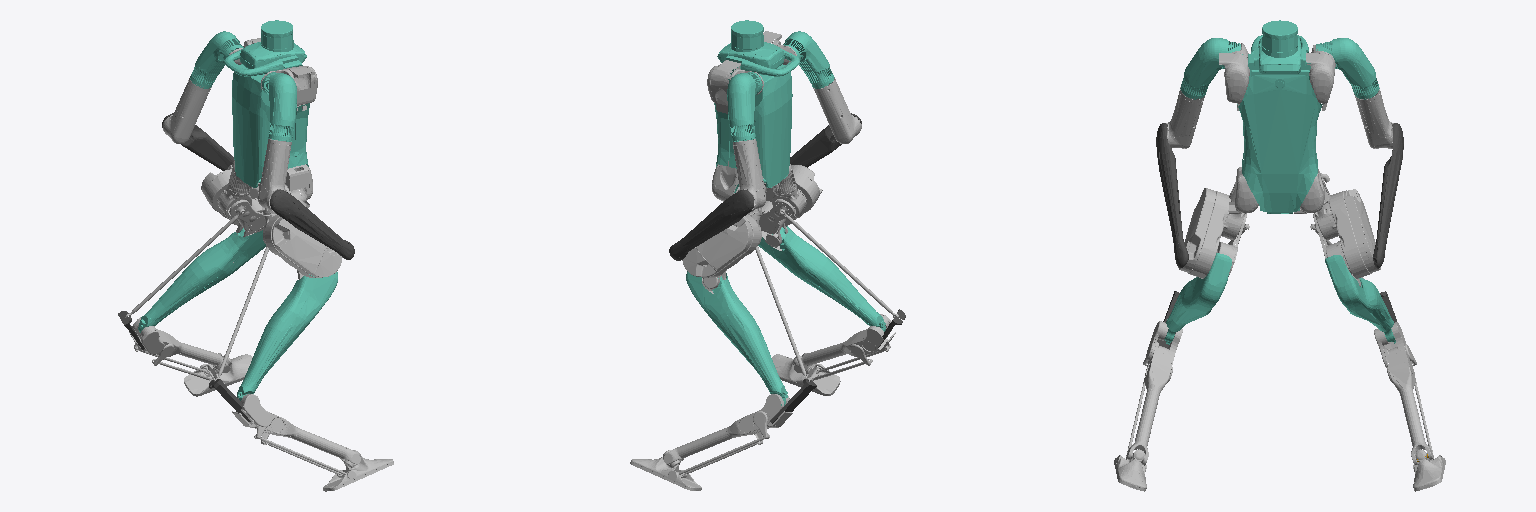
--- What the picture shows (computed from the rendered views, not written in the file) ---
Views: 3 orthographic renders of the robot side by side, from view 1: azimuth 30°, elevation 25°; view 2: azimuth 150°, elevation 25°; view 3: azimuth 270°, elevation 25°.
Model digit-v3-armfixed-floatingbase with 43 links and 42 joints (30 revolute, 12 fixed), rooted at torso, posed all joints at 0.
Visible links, largest first — view 1: torso, right_shin, left_shin, right_hip_pitch, right_tarsus, right_elbow, right_shoulder_pitch, left_shoulder_yaw, left_shoulder_pitch, left_tarsus, right_shoulder_yaw, left_toe_roll (+6 smaller); view 2: torso, left_shin, right_shin, left_hip_pitch, left_elbow, left_tarsus, left_shoulder_pitch, right_shoulder_yaw, right_tarsus, right_shoulder_pitch, left_shoulder_yaw, right_hip_pitch (+7 smaller); view 3: torso, left_hip_pitch, right_hip_pitch, left_tarsus, right_tarsus, right_shin, left_shin, right_elbow, left_shoulder_pitch, right_shoulder_pitch, left_elbow, left_shoulder_yaw (+4 smaller).
Link boxes in pixels (x1,y1,x2,y2): torso: [224, 20, 317, 207]; right_shin: [237, 272, 337, 400]; left_shin: [138, 228, 265, 332]; right_hip_pitch: [265, 215, 342, 277]; right_tarsus: [232, 394, 360, 463]; right_elbow: [270, 190, 354, 259]; right_shoulder_pitch: [262, 72, 296, 141]; left_shoulder_yaw: [163, 78, 211, 143]; left_shoulder_pitch: [190, 31, 243, 88]; left_tarsus: [129, 317, 230, 372]; right_shoulder_yaw: [258, 139, 291, 212]; left_toe_roll: [184, 354, 252, 396]; torso: [707, 20, 799, 201]; left_shin: [686, 271, 787, 405]; right_shin: [758, 226, 885, 331]; left_hip_pitch: [682, 214, 759, 277]; left_elbow: [669, 190, 753, 260]; left_tarsus: [663, 394, 792, 463]; left_shoulder_pitch: [727, 72, 762, 141]; right_shoulder_yaw: [813, 78, 861, 143]; right_tarsus: [794, 314, 895, 372]; right_shoulder_pitch: [783, 31, 834, 88]; left_shoulder_yaw: [733, 139, 765, 211]; right_hip_pitch: [760, 165, 822, 230]; torso: [1219, 20, 1335, 213]; left_hip_pitch: [1313, 189, 1380, 278]; right_hip_pitch: [1178, 188, 1246, 278]; left_tarsus: [1374, 322, 1433, 464]; right_tarsus: [1126, 321, 1182, 464]; right_shin: [1164, 253, 1231, 344]; left_shin: [1325, 255, 1395, 343]; right_elbow: [1156, 123, 1188, 267]; left_shoulder_pitch: [1316, 38, 1379, 99]; right_shoulder_pitch: [1180, 38, 1242, 99]; left_elbow: [1373, 123, 1403, 268]; left_shoulder_yaw: [1354, 87, 1393, 148].
Size in the robot's own frame: 0.5627 by 0.9376 by 1.4 metres.
Meshes: 20 distinct files referenced, 41 mesh visuals loaded (20 binary STL).

The robot description file, URDF, robot "digit-v3-armfixed-floatingbase":
<?xml version="1.0" encoding="utf-8"?>
<robot name="digit-v3-armfixed-floatingbase">
  <link name = "torso">
    <inertial>
      <origin rpy="0 0 0" xyz="0.001636612541 0.0002001180789 0.2593064529"/>
      <mass value="15.028392"/>
      <inertia ixx="0.3759052548" ixy="-8.776732849e-05" ixz="0.008498611229" iyy="0.3441935" iyz="6.621611757e-05" izz="0.09873232746"/>
    </inertial>
    <visual>
      <origin rpy="0 0 0" xyz="0 0 0"/>
      <geometry>
        <mesh filename="meshes/torso-v3/torso.stl"/>
      </geometry>
      <material name="scarlet">
        <color rgba="0.427 0.784 0.714 1"/>
      </material>
    </visual>
    <visual>
      <origin rpy="0 -1.5707963267948966192313216916398 0" xyz="-0.001 0.091 0"/>
      <geometry>
        <mesh filename="meshes/leg-v3/hip-roll-housing.stl"/>
      </geometry>
      <material name="light_grey">
        <color rgba="0.75 0.75 0.75 1"/>
      </material>
    </visual>
    <visual>
      <origin rpy="-0 -1.5707963267948966192313216916398 0" xyz="-0.001 0.12 0.4"/>
      <geometry>
        <mesh filename="meshes/arm-v3/link-0.stl"/>
      </geometry>
      <material name="light_grey">
        <color rgba="0.75 0.75 0.75 1"/>
      </material>
    </visual>
    <visual>
      <origin rpy="0 -1.5707963267948966192313216916398 0" xyz="-0.001 -0.091 0"/>
      <geometry>
        <mesh filename="meshes/leg-v3/hip-roll-housing.stl"/>
      </geometry>
      <material name="light_grey">
        <color rgba="0.75 0.75 0.75 1"/>
      </material>
    </visual>
    <visual>
      <origin rpy="0 -1.5707963267948966192313216916398 0" xyz="-0.001 -0.12 0.4"/>
      <geometry>
        <mesh filename="meshes/arm-v3/link-0.stl"/>
      </geometry>
      <material name="light_grey">
        <color rgba="0.75 0.75 0.75 1"/>
      </material>
    </visual>
    <collision>
      <origin rpy="0 0 0" xyz="0 0 0"/>
      <geometry>
        <mesh filename="meshes/torso-v3/torso.stl"/>
      </geometry>
    </collision>
    <collision>
      <origin rpy="0 -1.5707963267948966192313216916398 0" xyz="-0.001 0.091 0"/>
      <geometry>
        <mesh filename="meshes/leg-v3/hip-roll-housing.stl"/>
      </geometry>
    </collision>
    <collision>
      <origin rpy="-0.1745   -1.5707963267948966192313216916398         0" xyz="-0.001 0.12 0.4"/>
      <geometry>
        <mesh filename="meshes/arm-v3/link-0.stl"/>
      </geometry>
    </collision>
    <collision>
      <origin rpy="0 -1.5707963267948966192313216916398 0" xyz="-0.001 -0.091 0"/>
      <geometry>
        <mesh filename="meshes/leg-v3/hip-roll-housing.stl"/>
      </geometry>
    </collision>
    <collision>
      <origin rpy="0.1745   -1.5707963267948966192313216916398         0" xyz="-0.001 -0.12 0.4"/>
      <geometry>
        <mesh filename="meshes/arm-v3/link-0.stl"/>
      </geometry>
    </collision>
  </link>

  <!-- left leg -->
  <link name="left_hip_roll">
    <inertial>
      <origin rpy="0 0 0" xyz="-0.001967 0.000244 0.031435"/>
      <mass value="0.915088"/>
      <inertia ixx="0.001017" ixy="-3e-06" ixz="1.3e-05" iyy="0.001148" iyz="-4e-06" izz="0.000766"/>
    </inertial>
    <visual>
      <origin rpy="0 0 0" xyz="0 0 0"/>
      <geometry>
        <mesh filename="meshes/leg-v3/hip-yaw-housing.stl"/>
      </geometry>
      <material name="light_grey">
        <color rgba="0.75 0.75 0.75 1"/>
      </material>
    </visual>
    <collision>
      <origin rpy="0 0 0" xyz="0 0 0"/>
      <geometry>
        <mesh filename="meshes/leg-v3/hip-yaw-housing.stl"/>
      </geometry>
    </collision>
  </link>
  <link name="left_hip_yaw">
    <inertial>
      <origin rpy="0 0 0" xyz="1e-05 -0.001945 0.042033"/>
      <mass value="0.818753"/>
      <inertia ixx="0.001627" ixy="-1e-06" ixz="2e-06" iyy="0.001929" iyz="5.3e-05" izz="0.00077"/>
    </inertial>
    <visual>
      <origin rpy="0 0 0" xyz="0 0 0"/>
      <geometry>
        <mesh filename="meshes/leg-v3/hip-pitch-housing.stl"/>
      </geometry>
      <material name="light_grey">
        <color rgba="0.75 0.75 0.75 1"/>
      </material>
    </visual>
    <collision>
      <origin rpy="0 0 0" xyz="0 0 0"/>
      <geometry>
        <mesh filename="meshes/leg-v3/hip-pitch-housing.stl"/>
      </geometry>
    </collision>
  </link>
  <link name="left_hip_pitch">
    <inertial>
      <origin rpy="0 0 0" xyz="0.060537 0.000521 -0.038857"/>
      <mass value="6.244279"/>
      <inertia ixx="0.011533" ixy="-0.000171" ixz="0.000148" iyy="0.033345" iyz="0.000178" izz="0.033958"/>
    </inertial>
    <visual>
      <origin rpy="0 0 0" xyz="0 0 0"/>
      <geometry>
        <mesh filename="meshes/leg-v3/hip-pitch.stl"/>
      </geometry>
      <material name="scarlet">
        <color rgba="0.75 0.75 0.75 1"/>
      </material>
    </visual>
    <collision>
      <origin rpy="0 0 0" xyz="0 0 0"/>
      <geometry>
        <mesh filename="meshes/leg-v3/hip-pitch.stl"/>
      </geometry>
    </collision>
  </link>

  <!-- left knee close loop -->
  <link name="left_achilles_rod">
    <inertial>
      <origin rpy="0 0 0" xyz="0 0 0"/>
      <mass value="0."/>
      <inertia ixx="0" ixy="0" ixz="0" iyy="0" iyz="0" izz="0"/>
    </inertial>
    <visual>
      <origin rpy="0 0 0" xyz="0 0 0"/>
      <geometry>
        <mesh filename="meshes/leg-v3/achilles-rod.stl"/>
      </geometry>
      <material name="light_grey">
        <color rgba="0.75 0.75 0.75 1"/>
      </material>
    </visual>
    <collision>
      <origin rpy="0 0 0" xyz="0 0 0"/>
      <geometry>
        <mesh filename="meshes/leg-v3/achilles-rod.stl"/>
      </geometry>
    </collision>
  </link>
  <link name="left_ach2">
    <inertial>
      <origin rpy="0 0 0" xyz="0.2506 0 0"/>
      <mass value="0.178148"/>
      <inertia ixx="3e-06" ixy="0" ixz="0" iyy="0.004501" iyz="0" izz="0.004501"/>
    </inertial>
    <visual>
      <origin rpy="0 0 0" xyz="0 0 0"/>
      <geometry>
        <sphere radius = "0.0" />
      </geometry>
    </visual>
    <collision>
      <origin rpy="0 0 0" xyz="0 0 0"/>
      <geometry>
        <sphere radius = "0.0" />
      </geometry>
    </collision>
  </link>

  <link name="left_knee">
    <inertial>
      <origin rpy="0 0 0" xyz="0.045641 0.042154 0.001657"/>
      <mass value="1.227077"/>
      <inertia ixx="0.002643" ixy="-0.001832" ixz="6.6e-05" iyy="0.005098" iyz="4.5e-05" izz="0.007019"/>
    </inertial>
    <visual>
      <origin rpy="0 0 0" xyz="0 0 0"/>
      <geometry>
        <mesh filename="meshes/leg-v3/knee.stl"/>
      </geometry>
      <material name="light_grey">
        <color rgba="0.75 0.75 0.75 1"/>
      </material>
    </visual>
    <collision>
      <origin rpy="0 0 0" xyz="0 0 0"/>
      <geometry>
        <mesh filename="meshes/leg-v3/knee.stl"/>
      </geometry>
    </collision>
  </link>
  <link name="left_shin">
    <inertial>
      <origin rpy="0 0 0" xyz="0.174265 0.010265 0.00107"/>
      <mass value="0.895793"/>
      <inertia ixx="0.001128" ixy="0.001098" ixz="0.000196" iyy="0.022492" iyz="-3e-06" izz="0.022793"/>
    </inertial>
    <visual>
      <origin rpy="0 0 0" xyz="0 0 0"/>
      <geometry>
        <mesh filename="meshes/leg-v3/shin.stl"/>
      </geometry>
      <material name="scarlet">
        <color rgba="0.427 0.784 0.714 1"/>
      </material>
    </visual>
    <collision>
      <origin rpy="0 0 0" xyz="0 0 0"/>
      <geometry>
        <mesh filename="meshes/leg-v3/shin.stl"/>
      </geometry>
    </collision>
  </link>
  <link name="left_tarsus">
    <inertial>
      <origin rpy="0 0 0" xyz="0.100777 -0.029183 0.000678"/>
      <mass value="1.322865"/>
      <inertia ixx="0.000932" ixy="0.00061" ixz="0.000102" iyy="0.016409" iyz="9e-06" izz="0.016501"/>
    </inertial>
    <visual>
      <origin rpy="0 0 0" xyz="0 0 0"/>
      <geometry>
        <mesh filename="meshes/leg-v3/tarsus.stl"/>
      </geometry>
      <material name="light_grey">
        <color rgba="0.75 0.75 0.75 1"/>
      </material>
    </visual>
    <collision>
      <origin rpy="0 0 0" xyz="0 0 0"/>
      <geometry>
        <mesh filename="meshes/leg-v3/tarsus.stl"/>
      </geometry>
    </collision>
  </link>
  <link name="left_heel_spring">
    <inertial>
      <origin rpy="0 0 0" xyz="0.049086 0.004739 -4.5e-05"/>
      <mass value="0.230018"/>
      <inertia ixx="5.5e-05" ixy="1.5e-05" ixz="1e-06" iyy="0.00074" iyz="0" izz="0.000701"/>
    </inertial>
    <visual>
      <origin rpy="0 0 0" xyz="0 0 0"/>
      <geometry>
        <mesh filename="meshes/leg-v3/heel-spring.stl"/>
      </geometry>
      <material name="grey">
        <color rgba="0.35 0.35 0.35 1"/>
      </material>
    </visual>
    <collision>
      <origin rpy="0 0 0" xyz="0 0 0"/>
      <geometry>
        <mesh filename="meshes/leg-v3/heel-spring.stl"/>
      </geometry>
    </collision>
  </link>

  <!-- left toe close loop-->
  <link name="left_toe_A">
    <inertial>
      <origin rpy="0 0 0" xyz="0.005161 1e-06 -0.002248"/>
      <mass value="0.139557"/>
      <inertia ixx="2.9e-05" ixy="0" ixz="-4e-06" iyy="5.8e-05" iyz="0" izz="7.4e-05"/>
    </inertial>
    <visual>
      <origin rpy="0 0 0" xyz="0 0 0"/>
      <geometry>
        <mesh filename="meshes/leg-v3/toe-output.stl"/>
      </geometry>
      <material name="light_grey">
        <color rgba="0.75 0.75 0.75 1"/>
      </material>
    </visual>
    <collision>
      <origin rpy="0 0 0" xyz="0 0 0"/>
      <geometry>
        <mesh filename="meshes/leg-v3/toe-output.stl"/>
      </geometry>
    </collision>
  </link>
  <link name="left_toe_A_rod">
    <inertial>
      <origin rpy="0 0 0" xyz="0 0 0"/>
      <mass value="0."/>
      <inertia ixx="0" ixy="0" ixz="0" iyy="0" iyz="0" izz="0"/>
    </inertial>
    <visual>
      <origin rpy="0 0 0" xyz="0 0 0"/>
      <geometry>
        <mesh filename="meshes/leg-v3/toe-a-rod.stl"/>
      </geometry>
      <material name="light_grey">
        <color rgba="0.75 0.75 0.75 1"/>
      </material>
    </visual>
    <collision>
      <origin rpy="0 0 0" xyz="0 0 0"/>
      <geometry>
        <mesh filename="meshes/leg-v3/toe-a-rod.stl"/>
      </geometry>
    </collision>
  </link>
  <link name="left_A2">
    <inertial>
      <origin rpy="0 0 0" xyz="0.171071 0 0"/>
      <mass value="0.090983"/>
      <inertia ixx="1e-06" ixy="0" ixz="0" iyy="0.001182" iyz="0" izz="0.001182"/>
    </inertial>
    <visual>
      <origin rpy="0 0 0" xyz="0 0 0"/>
      <geometry>
        <sphere radius = "0.0" />
      </geometry>
    </visual>
    <collision>
      <origin rpy="0 0 0" xyz="0 0 0"/>
      <geometry>
        <sphere radius = "0.0" />
      </geometry>
    </collision>
  </link>
  <link name="left_toe_B">
    <inertial>
      <origin rpy="0 0 0" xyz="0.005161 1e-06 -0.002248"/>
      <mass value="0.139557"/>
      <inertia ixx="2.9e-05" ixy="0" ixz="-4e-06" iyy="5.8e-05" iyz="0" izz="7.4e-05"/>
    </inertial>
    <visual>
      <origin rpy="0 0 0" xyz="0 0 0"/>
      <geometry>
        <mesh filename="meshes/leg-v3/toe-output.stl"/>
      </geometry>
      <material name="light_grey">
        <color rgba="0.75 0.75 0.75 1"/>
      </material>
    </visual>
    <collision>
      <origin rpy="0 0 0" xyz="0 0 0"/>
      <geometry>
        <mesh filename="meshes/leg-v3/toe-output.stl"/>
      </geometry>
    </collision>
  </link>
  <link name="left_toe_B_rod">
    <inertial>
      <origin rpy="0 0 0" xyz="0 0 0"/>
      <mass value="0."/>
      <inertia ixx="0" ixy="0" ixz="0" iyy="0" iyz="0" izz="0"/>
    </inertial>
    <visual>
      <origin rpy="0 0 0" xyz="0 0 0"/>
      <geometry>
        <mesh filename="meshes/leg-v3/toe-b-rod.stl"/>
      </geometry>
      <material name="light_grey">
        <color rgba="0.75 0.75 0.75 1"/>
      </material>
    </visual>
    <collision>
      <origin rpy="0 0 0" xyz="0 0 0"/>
      <geometry>
        <mesh filename="meshes/leg-v3/toe-b-rod.stl"/>
      </geometry>
    </collision>
  </link>
  <link name="left_B2">
    <inertial>
      <origin rpy="0 0 0" xyz="0.142991 0 0"/>
      <mass value="0.079507"/>
      <inertia ixx="1e-06" ixy="0" ixz="0" iyy="0.000768" iyz="0" izz="0.000768"/>
    </inertial>
    <visual>
      <origin rpy="0 0 0" xyz="0 0 0"/>
      <geometry>
        <sphere radius = "0.0" />
      </geometry>
    </visual>
    <collision>
      <origin rpy="0 0 0" xyz="0 0 0"/>
      <geometry>
        <sphere radius = "0.0" />
      </geometry>
    </collision>
  </link>

  <link name="left_toe_pitch">
    <inertial>
      <origin rpy="0 0 0" xyz="-0.000141 2e-06 3e-06"/>
      <mass value="0.043881"/>
      <inertia ixx="5e-06" ixy="0" ixz="0" iyy="8e-06" iyz="0" izz="4e-06"/>
    </inertial>
    <visual>
      <origin rpy="0 0 0" xyz="0 0 0"/>
      <geometry>
        <mesh filename="meshes/leg-v3/toe-pitch.stl"/>
      </geometry>
    </visual>
    <collision>
      <origin rpy="0 0 0" xyz="0 0 0"/>
      <geometry>
        <mesh filename="meshes/leg-v3/toe-pitch.stl"/>
      </geometry>
      <material name="light_grey">
        <color rgba="0.75 0.75 0.75 1"/>
      </material>
    </collision>
  </link>
  <link name="left_toe_roll">
    <inertial>
      <origin rpy="0 0 0" xyz="9e-06 -0.028084 -0.023204"/>
      <mass value="0.531283"/>
      <inertia ixx="0.00187" ixy="0" ixz="0" iyy="0.001616" iyz="0.000566" izz="0.000843"/>
    </inertial>
    <visual>
      <origin rpy="0 0 0" xyz="0 0 0"/>
      <geometry>
        <mesh filename="meshes/leg-v3/toe-roll.stl"/>
      </geometry>
      <material name="light_grey">
        <color rgba="0.75 0.75 0.75 1"/>
      </material>
    </visual>
    <collision>
      <origin rpy="0 0 0" xyz="0 0 0"/>
      <geometry>
        <mesh filename="meshes/leg-v3/toe-roll.stl"/>
      </geometry>
    </collision>
  </link>

  <!-- left arm -->
  <link name="left_shoulder_roll">
    <inertial>
      <origin rpy="0 0 0" xyz="-0.000819 -0.003158 0.023405"/>
      <mass value="0.535396"/>
      <inertia ixx="0.000704" ixy="1.4e-05" ixz="1.2e-05" iyy="0.00075" iyz="3.5e-05" izz="0.000298"/>
    </inertial>
    <visual>
      <origin rpy="0         0   -0.2793" xyz="0 0 0"/>
      <geometry>
        <mesh filename="meshes/arm-v3/link-1.stl"/>
      </geometry>
      <material name="light_grey">
        <color rgba="0.75 0.75 0.75 1"/>
      </material>
    </visual>
    <collision>
      <origin rpy="0         0   -0.2793" xyz="0 0 0"/>
      <geometry>
        <mesh filename="meshes/arm-v3/link-1.stl"/>
      </geometry>
    </collision>
  </link>
  <link name="left_shoulder_pitch">
    <inertial>
      <origin rpy="0 0 0" xyz="-4.2e-05 -0.061882 -0.073788"/>
      <mass value="1.440357"/>
      <inertia ixx="0.006761" ixy="-6e-06" ixz="-3e-06" iyy="0.002087" iyz="-0.002046" izz="0.005778"/>
    </inertial>
    <visual>
      <origin rpy="0 0 0" xyz="0 0 0"/>
      <geometry>
        <mesh filename="meshes/arm-v3/link-2.stl"/>
      </geometry>
      <material name="scarlet">
        <color rgba="0.427 0.784 0.714 1"/>
      </material>
    </visual>
    <collision>
      <origin rpy="0 0 0" xyz="0 0 0"/>
      <geometry>
        <mesh filename="meshes/arm-v3/link-2.stl"/>
      </geometry>
    </collision>
  </link>
  <link name="left_shoulder_yaw">
    <inertial>
      <origin rpy="0 0 0" xyz="-3e-05 0.001937 0.11407"/>
      <mass value="1.065387"/>
      <inertia ixx="0.006967" ixy="-1e-06" ixz="-1e-06" iyy="0.007003" iyz="-1.5e-05" izz="0.000673"/>
    </inertial>
    <visual>
      <origin rpy="0 0 0" xyz="0 0 0"/>
      <geometry>
        <mesh filename="meshes/arm-v3/link-3.stl"/>
      </geometry>
      <material name="light_grey">
        <color rgba="0.75 0.75 0.75 1"/>
      </material>
    </visual>
    <collision>
      <origin rpy="0 0 0" xyz="0 0 0"/>
      <geometry>
        <mesh filename="meshes/arm-v3/link-3.stl"/>
      </geometry>
    </collision>
  </link>
  <link name="left_elbow">
    <inertial>
      <origin rpy="0 0 0" xyz="0.107996 0.000521 -0.017765"/>
      <mass value="0.550582"/>
      <inertia ixx="0.000476" ixy="-2.9e-05" ixz="0.001403" iyy="0.009564" iyz="9e-06" izz="0.009437"/>
    </inertial>
    <visual>
      <origin rpy="0 0 0" xyz="0 0 0"/>
      <geometry>
        <mesh filename="meshes/arm-v3/link-4.stl"/>
      </geometry>
      <material name="grey">
        <color rgba="0.35 0.35 0.35 1"/>
      </material>
    </visual>
    <collision>
      <origin rpy="0 0 0" xyz="0 0 0"/>
      <geometry>
        <mesh filename="meshes/arm-v3/link-4.stl"/>
      </geometry>
    </collision>
  </link>
  
  <!-- right leg -->
  <link name="right_hip_roll">
    <inertial>
      <origin rpy="0 0 0" xyz="-0.001967 -0.000244 0.031435"/>
      <mass value="0.915088"/>
      <inertia ixx="0.001017" ixy="3e-06" ixz="1.3e-05" iyy="0.001148" iyz="4e-06" izz="0.000766"/>
    </inertial>
    <visual>
      <origin rpy="0 0 0" xyz="0 0 0"/>
      <geometry>
        <mesh filename="meshes/leg-v3/hip-yaw-housing.stl" scale="1 1 1"/>
      </geometry>
      <material name="light_grey">
        <color rgba="0.75 0.75 0.75 1"/>
      </material>
    </visual>
    <collision>
      <origin rpy="0 0 0" xyz="0 0 0"/>
      <geometry>
        <mesh filename="meshes/leg-v3/hip-yaw-housing.stl" scale="1 1 1"/>
      </geometry>
    </collision>
  </link>
  <link name="right_hip_yaw">
    <inertial>
      <origin rpy="0 0 0" xyz="1e-05 0.001945 0.042033"/>
      <mass value="0.818753"/>
      <inertia ixx="0.001627" ixy="1e-06" ixz="2e-06" iyy="0.001929" iyz="-5.3e-05" izz="0.00077"/>
    </inertial>
    <visual>
      <origin rpy="0 0 3.1415926535897932384626433832795" xyz="0 0 0"/>
      <geometry>
        <mesh filename="meshes/leg-v3/hip-pitch-housing.stl" scale="1 1 1"/>
      </geometry>
      <material name="light_grey">
        <color rgba="0.75 0.75 0.75 1"/>
      </material>
    </visual>
    <collision>
      <origin rpy="0 0 0" xyz="0 0 0"/>
      <geometry>
        <mesh filename="meshes/leg-v3/hip-pitch-housing.stl" scale="1 1 1"/>
      </geometry>
    </collision>
  </link>
  <link name="right_hip_pitch">
    <inertial>
      <origin rpy="0 0 0" xyz="0.060537 -0.000521 -0.038857"/>
      <mass value="6.244279"/>
      <inertia ixx="0.011533" ixy="0.000171" ixz="0.000148" iyy="0.033345" iyz="-0.000178" izz="0.033958"/>
    </inertial>
    <visual>
      <origin rpy="0 0 0" xyz="0 0 0"/>
      <geometry>
        <mesh filename="meshes/leg-v3/hip-pitch.stl" scale="1 1 1"/>
      </geometry>
      <material name="scarlet">
        <color rgba="0.75 0.75 0.75 1"/>
      </material>
    </visual>
    <collision>
      <origin rpy="0 0 0" xyz="0 0 0"/>
      <geometry>
        <mesh filename="meshes/leg-v3/hip-pitch.stl" scale="1 1 1"/>
      </geometry>
    </collision>
  </link>

  <!-- right knee close loop -->
  <link name="right_achilles_rod">
    <inertial>
      <origin rpy="0 0 0" xyz="0 0 0"/>
      <mass value="0."/>
      <inertia ixx="0" ixy="0" ixz="0" iyy="0" iyz="0" izz="0"/>
    </inertial>
    <visual>
      <origin rpy="0 0 0" xyz="0 0 0"/>
      <geometry>
        <mesh filename="meshes/leg-v3/achilles-rod.stl" scale="1 1 1"/>
      </geometry>
      <material name="light_grey">
        <color rgba="0.75 0.75 0.75 1"/>
      </material>
    </visual>
    <collision>
      <origin rpy="0 0 0" xyz="0 0 0"/>
      <geometry>
        <mesh filename="meshes/leg-v3/achilles-rod.stl" scale="1 1 1"/>
      </geometry>
    </collision>
  </link>
  <link name="right_ach2">
    <inertial>
      <origin rpy="0 0 0" xyz="0.2506 0 0"/>
      <mass value="0.178148"/>
      <inertia ixx="3e-06" ixy="0" ixz="0" iyy="0.004501" iyz="0" izz="0.004501"/>
    </inertial>
    <visual>
      <origin rpy="0 0 0" xyz="0 0 0"/>
      <geometry>
        <sphere radius = "0.0" />
      </geometry>
    </visual>
    <collision>
      <origin rpy="0 0 0" xyz="0 0 0"/>
      <geometry>
        <sphere radius = "0.0" />
      </geometry>
    </collision>
  </link>

  <link name="right_knee">
    <inertial>
      <origin rpy="0 0 0" xyz="0.045641 -0.042154 0.001657"/>
      <mass value="1.227077"/>
      <inertia ixx="0.002643" ixy="0.001832" ixz="6.6e-05" iyy="0.005098" iyz="-4.5e-05" izz="0.007019"/>
    </inertial>
    <visual>
      <origin rpy="3.1415926535897932384626433832795 0 0" xyz="0 0 0"/>
      <geometry>
        <mesh filename="meshes/leg-v3/knee.stl" scale="1 1 1"/>
      </geometry>
      <material name="light_grey">
        <color rgba="0.75 0.75 0.75 1"/>
      </material>
    </visual>
    <collision>
      <origin rpy="0 0 0" xyz="0 0 0"/>
      <geometry>
        <mesh filename="meshes/leg-v3/knee.stl" scale="1 1 1"/>
      </geometry>
    </collision>
  </link>
  <link name="right_shin">
    <inertial>
      <origin rpy="0 0 0" xyz="0.174265 -0.010265 0.00107"/>
      <mass value="0.895793"/>
      <inertia ixx="0.001128" ixy="-0.001098" ixz="0.000196" iyy="0.022492" iyz="3e-06" izz="0.022793"/>
    </inertial>
    <visual>
      <origin rpy="3.1415926535897932384626433832795 0 0" xyz="0 0 0"/>
      <geometry>
        <mesh filename="meshes/leg-v3/shin.stl" scale="1 1 1"/>
      </geometry>
      <material name="scarlet">
        <color rgba="0.427 0.784 0.714 1"/>
      </material>
    </visual>
    <collision>
      <origin rpy="0 0 0" xyz="0 0 0"/>
      <geometry>
        <mesh filename="meshes/leg-v3/shin.stl" scale="1 1 1"/>
      </geometry>
    </collision>
  </link>
  <link name="right_tarsus">
    <inertial>
      <origin rpy="0 0 0" xyz="0.100777 0.029183 0.000678"/>
      <mass value="1.322865"/>
      <inertia ixx="0.000932" ixy="-0.00061" ixz="0.000102" iyy="0.016409" iyz="-9e-06" izz="0.016501"/>
    </inertial>
    <visual>
      <origin rpy="3.1415926535897932384626433832795 0 0" xyz="0 0 0"/>
      <geometry>
        <mesh filename="meshes/leg-v3/tarsus.stl" scale="1 1 1"/>
      </geometry>
      <material name="light_grey">
        <color rgba="0.75 0.75 0.75 1"/>
      </material>
    </visual>
    <collision>
      <origin rpy="0 0 0" xyz="0 0 0"/>
      <geometry>
        <mesh filename="meshes/leg-v3/tarsus.stl" scale="1 1 1"/>
      </geometry>
    </collision>
  </link>
  <link name="right_heel_spring">
    <inertial>
      <origin rpy="0 0 0" xyz="0.049086 -0.004739 -4.5e-05"/>
      <mass value="0.230018"/>
      <inertia ixx="5.5e-05" ixy="-1.5e-05" ixz="1e-06" iyy="0.00074" iyz="0" izz="0.000701"/>
    </inertial>
    <visual>
      <origin rpy="0 0 0" xyz="0 0 0"/>
      <geometry>
        <mesh filename="meshes/leg-v3/heel-spring.stl" scale="1 1 1"/>
      </geometry>
      <material name="grey">
        <color rgba="0.35 0.35 0.35 1"/>
      </material>
    </visual>
    <collision>
      <origin rpy="0 0 0" xyz="0 0 0"/>
      <geometry>
        <mesh filename="meshes/leg-v3/heel-spring.stl" scale="1 1 1"/>
      </geometry>
    </collision>
  </link>

  <!-- right toe close loop -->
  <link name="right_toe_A">
    <inertial>
      <origin rpy="0 0 0" xyz="0.005161 -1e-06 -0.002248"/>
      <mass value="0.139557"/>
      <inertia ixx="2.9e-05" ixy="0" ixz="-4e-06" iyy="5.8e-05" iyz="0" izz="7.4e-05"/>
    </inertial>
    <visual>
      <origin rpy="0 0 0" xyz="0 0 0"/>
      <geometry>
        <mesh filename="meshes/leg-v3/toe-output.stl" scale="1 1 1"/>
      </geometry>
      <material name="light_grey">
        <color rgba="0.75 0.75 0.75 1"/>
      </material>
    </visual>
    <collision>
      <origin rpy="0 0 0" xyz="0 0 0"/>
      <geometry>
        <mesh filename="meshes/leg-v3/toe-output.stl" scale="1 1 1"/>
      </geometry>
    </collision>
  </link>
  <link name="right_toe_A_rod">
    <inertial>
      <origin rpy="0 0 0" xyz="0 0 0"/>
      <mass value="0."/>
      <inertia ixx="0" ixy="0" ixz="0" iyy="0" iyz="0" izz="0"/>
    </inertial>
    <visual>
      <origin rpy="0 0 0" xyz="0 0 0"/>
      <geometry>
        <mesh filename="meshes/leg-v3/toe-a-rod.stl" scale="1 1 1"/>
      </geometry>
      <material name="light_grey">
        <color rgba="0.75 0.75 0.75 1"/>
      </material>
    </visual>
    <collision>
      <origin rpy="0 0 0" xyz="0 0 0"/>
      <geometry>
        <mesh filename="meshes/leg-v3/toe-a-rod.stl" scale="1 1 1"/>
      </geometry>
    </collision>
  </link>
  <link name="right_A2">
    <inertial>
      <origin rpy="0 0 0" xyz="0.171071 0 0"/>
      <mass value="0.090983"/>
      <inertia ixx="1e-06" ixy="0" ixz="0" iyy="0.001182" iyz="0" izz="0.001182"/>
    </inertial>
    <visual>
      <origin rpy="0 0 0" xyz="0 0 0"/>
      <geometry>
        <sphere radius = "0.0" />
      </geometry>
    </visual>
    <collision>
      <origin rpy="0 0 0" xyz="0 0 0"/>
      <geometry>
        <sphere radius = "0.0" />
      </geometry>
    </collision>
  </link>
  <link name="right_toe_B">
    <inertial>
      <origin rpy="0 0 0" xyz="0.005161 -1e-06 -0.002248"/>
      <mass value="0.139557"/>
      <inertia ixx="2.9e-05" ixy="0" ixz="-4e-06" iyy="5.8e-05" iyz="0" izz="7.4e-05"/>
    </inertial>
    <visual>
      <origin rpy="0 0 0" xyz="0 0 0"/>
      <geometry>
        <mesh filename="meshes/leg-v3/toe-output.stl" scale="1 1 1"/>
      </geometry>
      <material name="light_grey">
        <color rgba="0.75 0.75 0.75 1"/>
      </material>
    </visual>
    <collision>
      <origin rpy="0 0 0" xyz="0 0 0"/>
      <geometry>
        <mesh filename="meshes/leg-v3/toe-output.stl" scale="1 1 1"/>
      </geometry>
    </collision>
  </link>
  <link name="right_toe_B_rod">
    <inertial>
      <origin rpy="0 0 0" xyz="0 0 0"/>
      <mass value="0."/>
      <inertia ixx="0" ixy="0" ixz="0" iyy="0" iyz="0" izz="0"/>
    </inertial>
    <visual>
      <origin rpy="0 0 0" xyz="0 0 0"/>
      <geometry>
        <mesh filename="meshes/leg-v3/toe-b-rod.stl" scale="1 1 1"/>
      </geometry>
      <material name="light_grey">
        <color rgba="0.75 0.75 0.75 1"/>
      </material>
    </visual>
    <collision>
      <origin rpy="0 0 0" xyz="0 0 0"/>
      <geometry>
        <mesh filename="meshes/leg-v3/toe-b-rod.stl" scale="1 1 1"/>
      </geometry>
    </collision>
  </link>
  <link name="right_B2">
    <inertial>
      <origin rpy="0 0 0" xyz="0.142991 0 0"/>
      <mass value="0.079507"/>
      <inertia ixx="1e-06" ixy="0" ixz="0" iyy="0.000768" iyz="0" izz="0.000768"/>
    </inertial>
    <visual>
      <origin rpy="0 0 0" xyz="0 0 0"/>
      <geometry>
        <sphere radius = "0.0" />
      </geometry>
    </visual>
    <collision>
      <origin rpy="0 0 0" xyz="0 0 0"/>
      <geometry>
        <sphere radius = "0.0" />
      </geometry>
    </collision>
  </link>

  <link name="right_toe_pitch">
    <inertial>
      <origin rpy="0 0 0" xyz="-0.000141 -2e-06 3e-06"/>
      <mass value="0.043881"/>
      <inertia ixx="5e-06" ixy="0" ixz="0" iyy="8e-06" iyz="0" izz="4e-06"/>
    </inertial>
    <visual>
      <origin rpy="0 0 0" xyz="0 0 0"/>
      <geometry>
        <mesh filename="meshes/leg-v3/toe-pitch.stl" scale="1 1 1"/>
      </geometry>
      <material name="light_grey">
        <color rgba="0.75 0.75 0.75 1"/>
      </material>
    </visual>
    <collision>
      <origin rpy="0 0 0" xyz="0 0 0"/>
      <geometry>
        <mesh filename="meshes/leg-v3/toe-pitch.stl" scale="1 1 1"/>
      </geometry>
    </collision>
  </link>
  <link name="right_toe_roll">
    <inertial>
      <origin rpy="0 0 0" xyz="9e-06 0.028084 -0.023204"/>
      <mass value="0.531283"/>
      <inertia ixx="0.00187" ixy="0" ixz="0" iyy="0.001616" iyz="-0.000566" izz="0.000843"/>
    </inertial>
    <visual>
      <origin rpy="0 0 3.1415926535897932384626433832795" xyz="0 0 0"/>
      <geometry>
        <mesh filename="meshes/leg-v3/toe-roll.stl" scale="1 1 1"/>
      </geometry>
      <material name="light_grey">
        <color rgba="0.75 0.75 0.75 1"/>
      </material>
    </visual>
    <collision>
      <origin rpy="0 0 0" xyz="0 0 0"/>
      <geometry>
        <mesh filename="meshes/leg-v3/toe-roll.stl" scale="1 1 1"/>
      </geometry>
    </collision>
  </link>

  <!-- right arm -->
  <link name="right_shoulder_roll">
    <inertial>
      <origin rpy="0 0 0" xyz="-0.000819 0.003158 0.023405"/>
      <mass value="0.535396"/>
      <inertia ixx="0.000704" ixy="-1.4e-05" ixz="1.2e-05" iyy="0.00075" iyz="-3.5e-05" izz="0.000298"/>
    </inertial>
    <visual>
      <origin rpy="0         0    3.1415926535897932384626433832795" xyz="0 0 0"/>
      <geometry>
        <mesh filename="meshes/arm-v3/link-1.stl" scale="1 1 1"/>
      </geometry>
      <material name="light_grey">
        <color rgba="0.75 0.75 0.75 1"/>
      </material>
    </visual>
    <collision>
      <origin rpy="0         0    0.2793" xyz="0 0 0"/>
      <geometry>
        <mesh filename="meshes/arm-v3/link-1.stl" scale="1 1 1"/>
      </geometry>
    </collision>
  </link>
  <link name="right_shoulder_pitch">
    <inertial>
      <origin rpy="0 0 0" xyz="-4.2e-05 0.061882 -0.073788"/>
      <mass value="1.440357"/>
      <inertia ixx="0.006761" ixy="6e-06" ixz="-3e-06" iyy="0.002087" iyz="0.002046" izz="0.005778"/>
    </inertial>
    <visual>
      <origin rpy="0 0 3.1415926535897932384626433832795" xyz="0 0 0"/>
      <geometry>
        <mesh filename="meshes/arm-v3/link-2.stl" scale="1 1 1"/>
      </geometry>
      <material name="scarlet">
        <color rgba="0.427 0.784 0.714 1"/>
      </material>
    </visual>
    <collision>
      <origin rpy="0 0 0" xyz="0 0 0"/>
      <geometry>
        <mesh filename="meshes/arm-v3/link-2.stl" scale="1 1 1"/>
      </geometry>
    </collision>
  </link>
  <link name="right_shoulder_yaw">
    <inertial>
      <origin rpy="0 0 0" xyz="-3e-05 -0.001937 0.11407"/>
      <mass value="1.065387"/>
      <inertia ixx="0.006967" ixy="1e-06" ixz="-1e-06" iyy="0.007003" iyz="1.5e-05" izz="0.000673"/>
    </inertial>
    <visual>
      <origin rpy="0 0 3.1415926535897932384626433832795" xyz="0 0 0"/>
      <geometry>
        <mesh filename="meshes/arm-v3/link-3.stl" scale="1 1 1"/>
      </geometry>
      <material name="light_grey">
        <color rgba="0.75 0.75 0.75 1"/>
      </material>
    </visual>
    <collision>
      <origin rpy="0 0 0" xyz="0 0 0"/>
      <geometry>
        <mesh filename="meshes/arm-v3/link-3.stl" scale="1 1 1"/>
      </geometry>
    </collision>
  </link>
  <link name="right_elbow">
    <inertial>
      <origin rpy="0 0 0" xyz="0.107996 -0.000521 -0.017765"/>
      <mass value="0.550582"/>
      <inertia ixx="0.000476" ixy="2.9e-05" ixz="0.001403" iyy="0.009564" iyz="-9e-06" izz="0.009437"/>
    </inertial>
    <visual>
      <origin rpy="0 0 0" xyz="0 0 0"/>
      <geometry>
        <mesh filename="meshes/arm-v3/link-4.stl" scale="1 1 1"/>
      </geometry>
      <material name="grey">
        <color rgba="0.35 0.35 0.35 1"/>
      </material>
    </visual>
    <collision>
      <origin rpy="0 0 0" xyz="0 0 0"/>
      <geometry>
        <mesh filename="meshes/arm-v3/link-4.stl" scale="1 1 1"/>
      </geometry>
    </collision>
  </link>

  <!-- left leg -->
  <joint name="left_hip_roll" type="revolute">
    <origin rpy="1.5707963267948966192313216916398 -1.1955515003397312323585310878116 -1.5707963267948966192313216916398" xyz="-0.001 0.091 0"/> 
    <axis xyz="0 0 1"/>
    <parent link="torso"/>
    <child link="left_hip_roll"/>
    <dynamics damping="1.0" friction="1.0"/>
    <limit effort="1.4" lower="-1.0472" upper="1.0472" velocity="12.15"/>
  </joint>
  <joint name="left_hip_yaw" type="revolute">
    <origin rpy="0   -1.5707963267948966192313216916398         0" xyz="-0.0505 0 0.044"/>
    <axis xyz="0 0 1"/>
    <parent link="left_hip_roll"/>
    <child link="left_hip_yaw"/>
    <dynamics damping="1.0" friction="1.0"/>
    <limit effort="1.4" lower="-0.698132" upper="0.698132" velocity="12.15"/>
  </joint>
  <joint name="left_hip_pitch" type="revolute">
    <origin rpy="-1.5707963267948966192313216916398 -0.78539816339739465522740147207514 3.1415926535897932384626433832795" xyz="0 0.004 0.068"/>
    <axis xyz="0 0 -1"/>
    <parent link="left_hip_yaw"/>
    <child link="left_hip_pitch"/>
    <dynamics damping="1.0" friction="0.5"/>
    <limit effort="12.5" lower="-1.0472" upper="1.5707963267948966192313216916398" velocity="8.5"/>
  </joint>

  <!-- left knee close loop -->
  <joint name="left_achilles_rod" type="revolute">
    <origin rpy="0.0087528908613780896652567520277444 0.07085157762907765000015558598534 -1.4355410054288866295024718056084" xyz="0 0 0.046"/>
    <axis xyz="0 0 1"/>
    <parent link="left_hip_pitch"/>
    <child link="left_achilles_rod"/>
    <dynamics damping="0.01" friction="0.0"/>
    <limit effort="12.5" lower="-1.7453" upper="1.7453" velocity="8.5085"/>
  </joint>
  <joint name="left_ach2" type="revolute">
    <origin rpy="0 0 0" xyz="0 0 0"/>
    <axis xyz="0 1 0"/>
    <parent link="left_achilles_rod"/>
    <child link="left_ach2"/>
    <dynamics damping="0.01" friction="0.0"/>
    <limit effort="0.9" lower="-1.7453" upper="1.7453" velocity="11.5"/>
  </joint>

  <joint name="left_knee" type="revolute">
    <origin rpy="0         0   -1.5707963267948966192313216916398" xyz="0.12 0 0.0045"/>
    <axis xyz="0 0 1"/>
    <parent link="left_hip_pitch"/>
    <child link="left_knee"/>
    <dynamics damping="1.0" friction="0.5"/>
    <limit effort="12.5" lower="-1.3963" upper="1.0193" velocity="8.5085"/>
  </joint>
  <joint name="left_shin" type="fixed">
    <origin rpy="0 0 0" xyz="0.060677 0.047406 0"/>
    <axis xyz="0 0 1"/>
    <parent link="left_knee"/>
    <child link="left_shin"/>
    <dynamics damping="0.0" friction="0.0"/>
    <limit effort="0" lower="-0.35" upper="0.35" velocity="10"/>
  </joint>
  <joint name="left_tarsus" type="revolute">
    <origin rpy="0         0    1.7976883650999471164766418951331" xyz="0.434759 0.02 0"/>
    <axis xyz="0 0 1"/>
    <parent link="left_shin"/>
    <child link="left_tarsus"/>
    <dynamics damping="0.0" friction="0.0"/>
    <limit effort="0" lower="-0.8779" upper="1.2497" velocity="20"/>
  </joint>
  <joint name="left_heel_spring" type="fixed">
    <origin rpy="-0.068907263191147760661436905138544 -0.03703539652360886280657581437481 2.7207176029176958209632175567094" xyz="-0.01766 -0.029456 0.00104"/>
    <axis xyz="0 0 1"/>
    <parent link="left_tarsus"/>
    <child link="left_heel_spring"/>
    <dynamics damping="0.0" friction="0.0"/>
    <limit effort="12" lower="-0.1047" upper="0.1047" velocity="11.5"/>
  </joint>

  <!-- left toe close loop -->
  <joint name="left_toe_A" type="revolute">
    <origin rpy="3.1415926535897932384626433832795 0 -1.5526449025733231046331184188602" xyz="0.059 -0.034 -0.0276"/>
    <axis xyz="0 0 1"/>
    <parent link="left_tarsus"/>
    <child link="left_toe_A"/>
    <dynamics damping="1.0" friction="1.0"/>
    <limit effort="0.9" lower="-0.8077" upper="0.7851" velocity="11.5"/>
  </joint>
  <joint name="left_toe_A_rod" type="revolute">
    <origin rpy="-0.037175987474526640819139089444434 0.0069420091856212517295032782271846 -1.5437619437662688515189302052022" xyz="0.057 0 -0.008"/>
    <axis xyz="0 0 1"/>
    <parent link="left_toe_A"/>
    <child link="left_toe_A_rod"/>
    <dynamics damping="0.01" friction="0.0"/>
    <limit effort="0.9" lower="-1.7453" upper="1.7453" velocity="11.5"/>
  </joint>
  <joint name="left_A2" type="revolute">
    <origin rpy="0 0 0" xyz="0 0 0"/>
    <axis xyz="0 1 0"/>
    <parent link="left_toe_A_rod"/>
    <child link="left_A2"/>
    <dynamics damping="0.01" friction="0.0"/>
    <limit effort="0.9" lower="-1.7453" upper="1.7453" velocity="11.5"/>
  </joint>
  <joint name="left_toe_B" type="revolute">
    <origin rpy="0         0   -1.5526446425200970402613620535703" xyz="0.111 -0.034 0.0276"/>
    <axis xyz="0 0 1"/>
    <parent link="left_tarsus"/>
    <child link="left_toe_B"/>
    <dynamics damping="1.0" friction="1.0"/>
    <limit effort="0.9" lower="-0.8010" upper="0.7950" velocity="11.5"/>
  </joint>
  <joint name="left_toe_B_rod" type="revolute">
    <origin rpy="-0.053844685552438438513878082858355 0.0022826832958013874852465363574083 1.5418663490001245364169335516635" xyz="0.057 0 -0.008"/>
    <axis xyz="0 0 1"/>
    <parent link="left_toe_B"/>
    <child link="left_toe_B_rod"/>
    <dynamics damping="0.01" friction="0.0"/>
    <limit effort="0.9" lower="-1.7453" upper="1.7453" velocity="11.5"/>
  </joint>
  <joint name="left_B2" type="revolute">
    <origin rpy="0 0 0" xyz="0 0 0"/>
    <axis xyz="0 1 0"/>
    <parent link="left_toe_B_rod"/>
    <child link="left_B2"/>
    <dynamics damping="0.01" friction="0.0"/>
    <limit effort="0.9" lower="-1.7453" upper="1.7453" velocity="11.5"/>
  </joint>

  <joint name="left_toe_pitch" type="revolute">
    <origin rpy="0         0    1.2522744638393012994725950193242" xyz="0.408 -0.04 0"/>
    <axis xyz="0 0 1"/>
    <parent link="left_tarsus"/>
    <child link="left_toe_pitch"/>
    <dynamics damping="0.0" friction="0.0"/>
    <limit effort="0.9" lower="-0.7679" upper="0.5934" velocity="11.5"/>
  </joint>
  <joint name="left_toe_roll" type="revolute">
    <origin rpy="0    1.5707963267948966192313216916398         0" xyz="0 0 0"/>
    <axis xyz="0 0 1"/>
    <parent link="left_toe_pitch"/>
    <child link="left_toe_roll"/>
    <dynamics damping="0.0" friction="0.0"/>
    <limit effort="0.9" lower="-0.6458" upper="0.5760" velocity="11.5"/>
  </joint>

  <!-- left arm -->
  <joint name="left_shoulder_roll" type="fixed">
    <origin rpy="-1.5707963267948966192313216916398 -1.5467303 1.5707963267948966192313216916398" xyz="-0.001 0.12 0.4"/>
    <axis xyz="0 0 1"/>
    <parent link="torso"/>
    <child link="left_shoulder_roll"/>
    <dynamics damping="2.0" friction="2.0"/>
    <limit effort="1.4" lower="-1.309" upper="1.309" velocity="12.5"/>
  </joint>
  <joint name="left_shoulder_pitch" type="fixed">
    <origin rpy="1.5707963267948966192313216916398 1.875658163397448285891755404009 -0.2792527" xyz="-0.00317 -0.011055 0.0555"/>
    <axis xyz="0 0 -1"/>
    <parent link="left_shoulder_roll"/>
    <child link="left_shoulder_pitch"/>
    <dynamics damping="2.0" friction="2.0"/>
    <limit effort="1.4" lower="-2.5307" upper="2.5307" velocity="12.5"/>
  </joint>
  <joint name="left_shoulder_yaw" type="fixed">
    <origin rpy="1.5707963267948966192313216916398 -0.14981736 0" xyz="0 -0.165 -0.1"/>
    <axis xyz="0 0 1"/>
    <parent link="left_shoulder_pitch"/>
    <child link="left_shoulder_yaw"/>
    <dynamics damping="2.0" friction="2.0"/>
    <limit effort="1.4" lower="-1.7453" upper="1.7453" velocity="10"/>
  </joint>
  <joint name="left_elbow" type="fixed">
    <origin rpy="1.5707963267948966192313216916398 -0.3926991 0" xyz="0 -0.0385 0.185"/>
    <axis xyz="0 0 1"/>
    <parent link="left_shoulder_yaw"/>
    <child link="left_elbow"/>
    <dynamics damping="2.0" friction="2.0"/>
    <limit effort="1.4" lower="-1.3526" upper="1.3526" velocity="12.5"/>
  </joint>

  <!-- right leg -->
  <joint name="right_hip_roll" type="revolute">
    <origin rpy="-1.5707963267948966192313216916398 -1.1955515003397312323585310878116 1.5707963267948966192313216916398" xyz="-0.001 -0.091 0"/>
    <axis xyz="0 0 1"/>
    <parent link="torso"/>
    <child link="right_hip_roll"/>
    <dynamics damping="1.0" friction="1.0"/>
    <limit effort="1.4" lower="-1.0472" upper="1.0472" velocity="12.15"/>
  </joint>
  <joint name="right_hip_yaw" type="revolute">
    <origin rpy="0   -1.5707963267948966192313216916398         0" xyz="-0.0505 0 0.044"/>
    <axis xyz="0 0 1"/>
    <parent link="right_hip_roll"/>
    <child link="right_hip_yaw"/>
    <dynamics damping="1.0" friction="1.0"/>
    <limit effort="1.4" lower="-0.698132" upper="0.698132" velocity="12.15"/>
  </joint>
  <joint name="right_hip_pitch" type="revolute">
    <origin rpy="1.5707963267948966192313216916398 -0.78539855435120076165844693605322 3.1415926535897932384626433832795" xyz="0 -0.004 0.068"/>
    <axis xyz="0 0 -1"/>
    <parent link="right_hip_yaw"/>
    <child link="right_hip_pitch"/>
    <dynamics damping="1.0" friction="0.5"/>
    <limit effort="12.5" lower="-1.5707963267948966192313216916398" upper="1.0472" velocity="8.5"/>
  </joint>

  <!-- right knee close loop -->
  <joint name="right_achilles_rod" type="revolute">
    <origin rpy="-0.0087523017375784415566863927438135 0.070851391807226243857442682383407 1.4355417226017064269427692124736" xyz="0 0 0.046"/>
    <axis xyz="0 0 1"/>
    <parent link="right_hip_pitch"/>
    <child link="right_achilles_rod"/>
    <dynamics damping="0.01" friction="0.0"/>
    <limit effort="12.5" lower="-1.7453" upper="1.7453" velocity="8.5085"/>
  </joint>
  <joint name="right_ach2" type="revolute">
    <origin rpy="0 0 0" xyz="0 0 0"/>
    <axis xyz="0 1 0"/>
    <parent link="right_achilles_rod"/>
    <child link="right_ach2"/>
    <dynamics damping="0.01" friction="0.0"/>
    <limit effort="0.9" lower="-1.7453" upper="1.7453" velocity="11.5"/>
  </joint>

  <joint name="right_knee" type="revolute">
    <origin rpy="0         0    1.5707963267948966192313216916398" xyz="0.12 0 0.0045"/>
    <axis xyz="0 0 1"/>
    <parent link="right_hip_pitch"/>
    <child link="right_knee"/>
    <dynamics damping="1.0" friction="0.5"/>
    <limit effort="12.5" lower="-1.0193" upper="1.3963" velocity="8.5085"/>
  </joint>
  <joint name="right_shin" type="fixed">
    <origin rpy="0 0 0" xyz="0.060677 -0.047406 0"/>
    <axis xyz="0 0 1"/>
    <parent link="right_knee"/>
    <child link="right_shin"/>
    <dynamics damping="0.0" friction="0.0"/>
    <limit effort="0" lower="-0.35" upper="0.35" velocity="10"/>
  </joint>
  <joint name="right_tarsus" type="revolute">
    <origin rpy="0         0   -1.7976883650999471164766418951331" xyz="0.434759 -0.02 0"/>
    <axis xyz="0 0 1"/>
    <parent link="right_shin"/>
    <child link="right_tarsus"/>
    <dynamics damping="0.0" friction="0.0"/>
    <limit effort="0" lower="-1.2497" upper="0.8779" velocity="20"/>
  </joint>
  <joint name="right_heel_spring" type="fixed">
    <origin rpy="0.068907849662554282454962617521232 -0.037035299439698535217679875586327 -2.7207170387858861104746210912708" xyz="-0.01766 0.029456 0.00104"/>
    <axis xyz="0 0 1"/>
    <parent link="right_tarsus"/>
    <child link="right_heel_spring"/>
    <dynamics damping="0.0" friction="0.0"/>
    <limit effort="12" lower="-0.1047" upper="0.1047" velocity="11.5"/>
  </joint> 

  <!-- right toe close loop -->
  <joint name="right_toe_A" type="revolute">
    <origin rpy="3.1415926535897932384626433832795 0 1.5526446425200970402613620535703" xyz="0.059 0.034 -0.0276"/>
    <axis xyz="0 0 1"/>
    <parent link="right_tarsus"/>
    <child link="right_toe_A"/>
    <dynamics damping="1.0" friction="1.0"/>
    <limit effort="0.9" lower="-0.7851" upper="0.8077" velocity="11.5"/>
  </joint>
  <joint name="right_toe_A_rod" type="revolute">
    <origin rpy="0.03717647899635967423392912678537 0.0069418384185932916277672610760874 1.5437611240201540852012840332463" xyz="0.057 0 -0.008"/>
    <axis xyz="0 0 1"/>
    <parent link="right_toe_A"/>
    <child link="right_toe_A_rod"/>
    <dynamics damping="0.01" friction="0.0"/>
    <limit effort="0.9" lower="-1.7453" upper="1.7453" velocity="11.5"/>
  </joint>
  <joint name="right_A2" type="revolute">
    <origin rpy="0 0 0" xyz="0 0 0"/>
    <axis xyz="0 1 0"/>
    <parent link="right_toe_A_rod"/>
    <child link="right_A2"/>
    <dynamics damping="0.01" friction="0.0"/>
    <limit effort="0.9" lower="-1.7453" upper="1.7453" velocity="11.5"/>
  </joint>
  <joint name="right_toe_B" type="revolute">
    <origin rpy="0         0    1.5526446425200970402613620535703" xyz="0.111 0.034 0.0276"/>
    <axis xyz="0 0 1"/>
    <parent link="right_tarsus"/>
    <child link="right_toe_B"/>
    <dynamics damping="1.0" friction="1.0"/>
    <limit effort="0.9" lower="-0.7950" upper="0.8010" velocity="11.5"/>
  </joint>
  <joint name="right_toe_B_rod" type="revolute">
    <origin rpy="0.053844685552438438513878082858355 0.0022826832958013874852465363574083 -1.5418663490001245364169335516635" xyz="0.057 0 -0.008"/>
    <axis xyz="0 0 1"/>
    <parent link="right_toe_B"/>
    <child link="right_toe_B_rod"/>
    <dynamics damping="0.01" friction="0.0"/>
    <limit effort="0.9" lower="-1.7453" upper="1.7453" velocity="11.5"/>
  </joint>
  <joint name="right_B2" type="revolute">
    <origin rpy="0 0 0" xyz="0 0 0"/>
    <axis xyz="0 1 0"/>
    <parent link="right_toe_B_rod"/>
    <child link="right_B2"/>
    <dynamics damping="0.01" friction="0.0"/>
    <limit effort="0.9" lower="-1.7453" upper="1.7453" velocity="11.5"/>
  </joint>

  <joint name="right_toe_pitch" type="revolute">
    <origin rpy="0         0   -1.2522744638393012994725950193242" xyz="0.408 0.04 0"/>
    <axis xyz="0 0 1"/>
    <parent link="right_tarsus"/>
    <child link="right_toe_pitch"/>
    <dynamics damping="0.0" friction="0.0"/>
    <limit effort="0.9" lower="-0.5934" upper="0.7679" velocity="11.5"/>
  </joint>
  <joint name="right_toe_roll" type="revolute">
    <origin rpy="0    1.5707963267948966192313216916398         0" xyz="0 0 0"/>
    <axis xyz="0 0 1"/>
    <parent link="right_toe_pitch"/>
    <child link="right_toe_roll"/>
    <dynamics damping="0.0" friction="0.0"/>
    <limit effort="0.9" lower="-0.5760" upper="0.6458" velocity="11.5"/>
  </joint>

  <!-- right arm -->
  <joint name="right_shoulder_roll" type="fixed">
    <origin rpy="1.5707963267948966192313216916398 -1.5467303 -1.5707963267948966192313216916398" xyz="-0.001 -0.12 0.4"/>
    <axis xyz="0 0 1"/>
    <parent link="torso"/>
    <child link="right_shoulder_roll"/>
    <dynamics damping="2.0" friction="2.0"/>
    <limit effort="1.4" lower="-1.309" upper="1.309" velocity="12.5"/>
  </joint>
  <joint name="right_shoulder_pitch" type="fixed">
    <origin rpy="-1.5707963267948966192313216916398 1.875658163397448285891755404009 0.2792527" xyz="-0.00317 0.011055 0.0555"/>
    <axis xyz="0 0 -1"/>
    <parent link="right_shoulder_roll"/>
    <child link="right_shoulder_pitch"/>
    <dynamics damping="2.0" friction="2.0"/>
    <limit effort="1.4" lower="-2.5307" upper="2.5307" velocity="12.5"/>
  </joint>
  <joint name="right_shoulder_yaw" type="fixed">
    <origin rpy="-1.5707963267948966192313216916398 -0.14981736 0" xyz="0 0.165 -0.1"/>
    <axis xyz="0 0 1"/>
    <parent link="right_shoulder_pitch"/>
    <child link="right_shoulder_yaw"/>
    <dynamics damping="2.0" friction="2.0"/>
    <limit effort="1.4" lower="-1.7453" upper="1.7453" velocity="10"/>
  </joint>
  <joint name="right_elbow" type="fixed">
    <origin rpy="-1.5707963267948966192313216916398 -0.3926991 0" xyz="0 0.0385 0.185"/>
    <axis xyz="0 0 1"/>
    <parent link="right_shoulder_yaw"/>
    <child link="right_elbow"/>
    <dynamics damping="2.0" friction="2.0"/>
    <limit effort="1.4" lower="-1.3526" upper="1.3526" velocity="12.5"/>
  </joint>
</robot>
